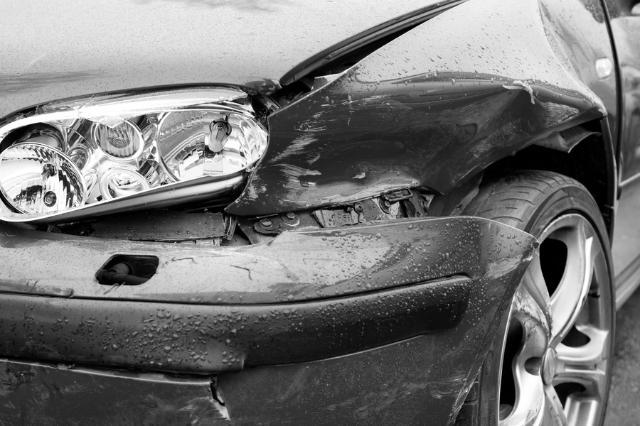Bumper: (0, 190, 535, 426)
Fender: (230, 0, 616, 220)
Light: (0, 84, 267, 230)
